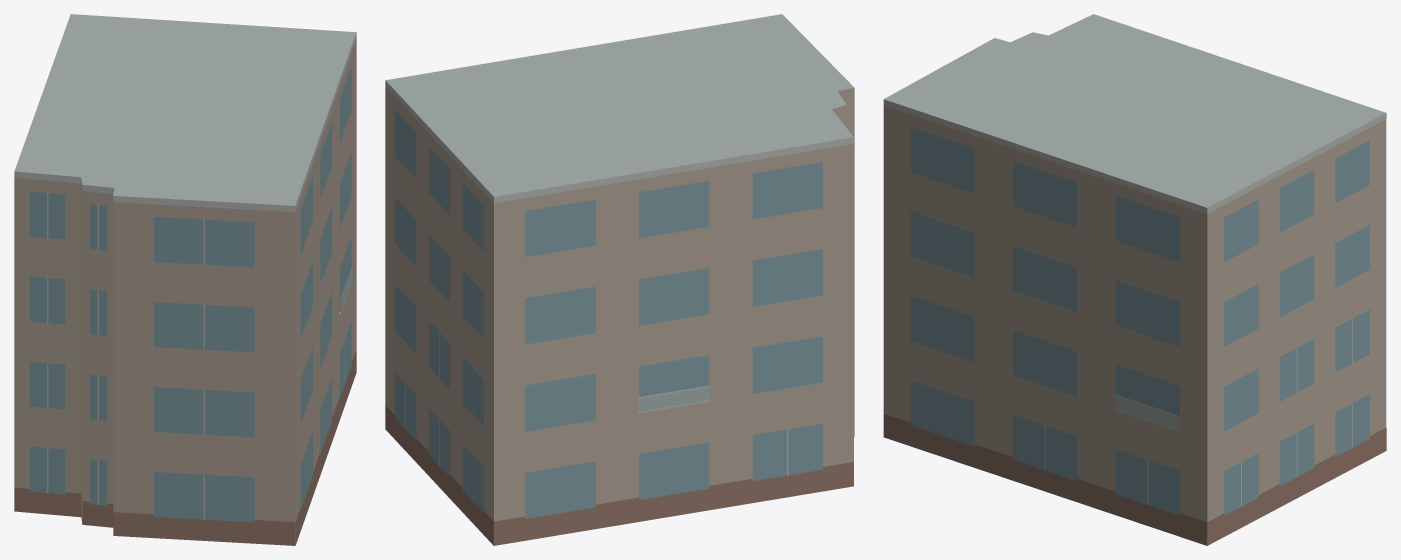
File: survey-upis-32611088.glb
3 views of the same model, side by side, from view 1: azimuth 30°, elevation 25°; view 2: azimuth 150°, elevation 25°; view 3: azimuth 270°, elevation 25° (orthographic). The views are drawn at different scales.
Parts seen in each view (by area): view 1: survey-upis-32611088.tmp; view 2: survey-upis-32611088.tmp; view 3: survey-upis-32611088.tmp.
Part boxes in pixels (x1=…): survey-upis-32611088.tmp: x1=14, y1=14, x2=356, y2=545; survey-upis-32611088.tmp: x1=385, y1=14, x2=854, y2=545; survey-upis-32611088.tmp: x1=883, y1=14, x2=1386, y2=545.
Bounding box in the file's own units: 16.24 × 13.2 × 17.8.
